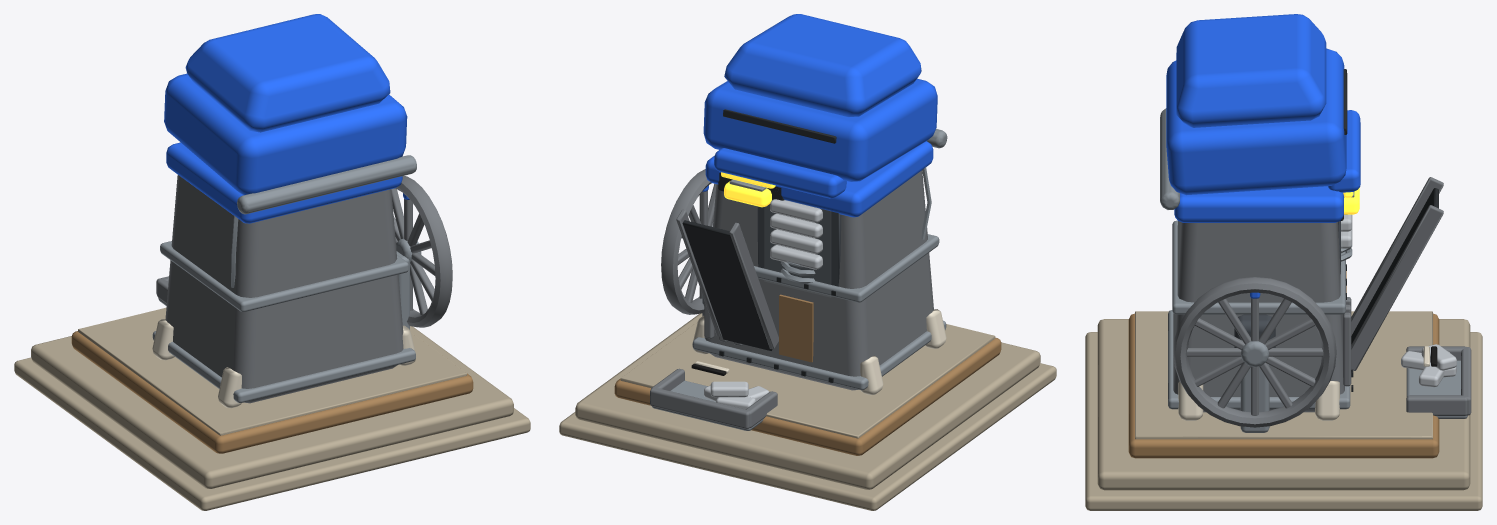
File: derrick.glb
The picture shows the model from 3 angles, left to right: view 1: azimuth 30°, elevation 25°; view 2: azimuth 150°, elevation 25°; view 3: azimuth 270°, elevation 25°; orthographic projection. The views are drawn at different scales.
Visible parts, largest first — view 1: stage_2__M_OldSteel, dk_head__M_Team, stage_1__M_SugarPad, stage_0__M_SugarPad, stage_1__M_Kraft, stage_2__M_SpringSteel, dk_wheel__M_OldSteel, stage_3__M_Team, dk_head__M_SpringSteel, stage_1__M_CreamPlastic; view 2: dk_head__M_Team, stage_1__M_SugarPad, stage_2__M_OldSteel, stage_0__M_SugarPad, stage_2__M_Dark, stage_2__M_SpringSteel, stage_1__M_Kraft, stage_3__M_Team, dk_wheel__M_OldSteel, stage_2__M_Foil, stage_1__M_OldSteel, stage_2__M_SmokePlastic (+7 smaller); view 3: stage_1__M_SugarPad, dk_head__M_Team, stage_2__M_OldSteel, stage_0__M_SugarPad, dk_wheel__M_OldSteel, stage_1__M_Kraft, stage_3__M_Team, stage_2__M_SpringSteel, stage_1__M_OldSteel, stage_1__M_CreamPlastic, dk_pile__M_Foil, stage_1__M_SpringSteel (+4 smaller).
Boxes of the visible parts, x1=… form: stage_2__M_OldSteel: x1=165, y1=175, x2=403, y2=403; dk_head__M_Team: x1=164, y1=14, x2=407, y2=195; stage_1__M_SugarPad: x1=31, y1=307, x2=513, y2=488; stage_0__M_SugarPad: x1=14, y1=357, x2=530, y2=510; stage_1__M_Kraft: x1=71, y1=331, x2=473, y2=453; stage_2__M_SpringSteel: x1=152, y1=215, x2=415, y2=402; dk_wheel__M_OldSteel: x1=391, y1=176, x2=452, y2=327; stage_3__M_Team: x1=166, y1=142, x2=402, y2=223; dk_head__M_SpringSteel: x1=237, y1=155, x2=416, y2=214; stage_1__M_CreamPlastic: x1=152, y1=319, x2=416, y2=408; dk_head__M_Team: x1=703, y1=14, x2=937, y2=198; stage_1__M_SugarPad: x1=575, y1=313, x2=1040, y2=489; stage_2__M_OldSteel: x1=676, y1=170, x2=933, y2=390; stage_0__M_SugarPad: x1=559, y1=363, x2=1056, y2=510; stage_2__M_Dark: x1=682, y1=173, x2=835, y2=382; stage_2__M_SpringSteel: x1=692, y1=167, x2=946, y2=390; stage_1__M_Kraft: x1=614, y1=337, x2=1001, y2=455; stage_3__M_Team: x1=705, y1=141, x2=933, y2=217; dk_wheel__M_OldSteel: x1=661, y1=169, x2=716, y2=314; stage_2__M_Foil: x1=770, y1=199, x2=822, y2=269; stage_1__M_OldSteel: x1=650, y1=368, x2=777, y2=428; stage_2__M_SmokePlastic: x1=757, y1=204, x2=841, y2=286; stage_1__M_SugarPad: x1=1097, y1=311, x2=1470, y2=490; dk_head__M_Team: x1=1166, y1=14, x2=1360, y2=195; stage_2__M_OldSteel: x1=1173, y1=177, x2=1443, y2=412; stage_0__M_SugarPad: x1=1085, y1=332, x2=1482, y2=510; dk_wheel__M_OldSteel: x1=1173, y1=277, x2=1336, y2=427; stage_1__M_Kraft: x1=1128, y1=313, x2=1439, y2=458; stage_3__M_Team: x1=1174, y1=186, x2=1343, y2=222; stage_2__M_SpringSteel: x1=1168, y1=220, x2=1352, y2=432; stage_1__M_OldSteel: x1=1406, y1=346, x2=1471, y2=415; stage_1__M_CreamPlastic: x1=1178, y1=381, x2=1339, y2=420; dk_pile__M_Foil: x1=1401, y1=344, x2=1456, y2=387; stage_1__M_SpringSteel: x1=1406, y1=360, x2=1467, y2=418.
Bounding box in the file's own units: 1.92 × 2.06 × 1.92.
